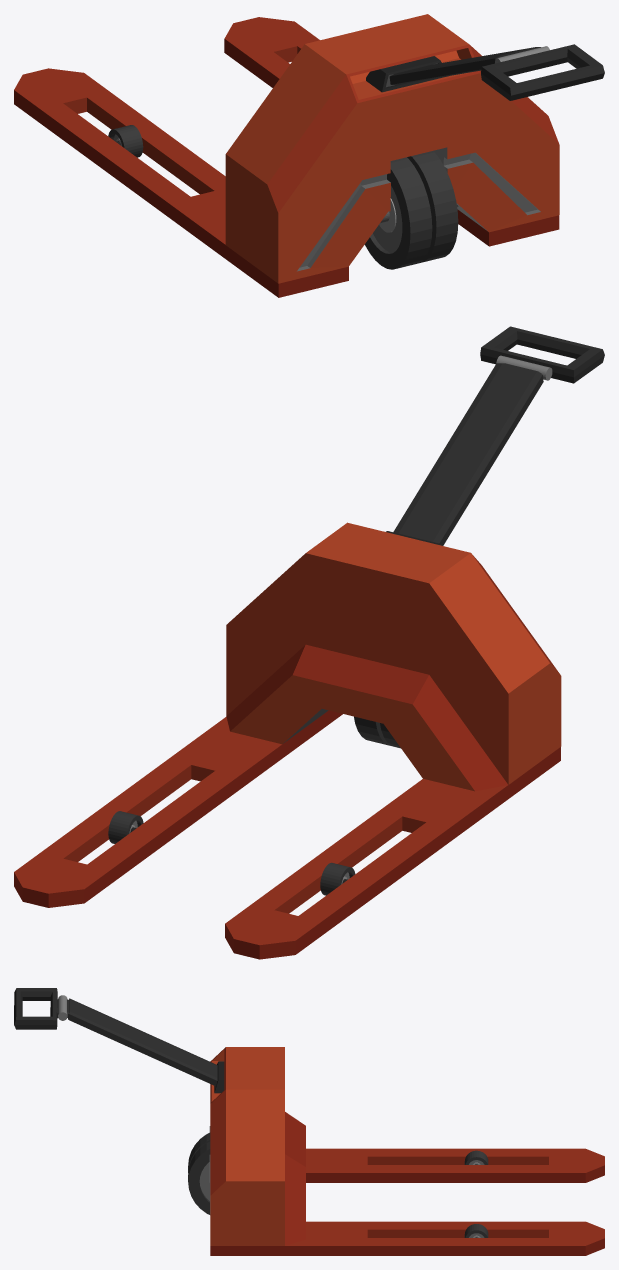
File: Powered Pallet Jack.fbx
3 renders of one model, top to bottom at view 1: azimuth 30°, elevation 25°; view 2: azimuth 150°, elevation 25°; view 3: azimuth 270°, elevation 25°, orthographic. The views are drawn at different scales.
Visible parts, largest first — view 1: Powered Pallet Jack; view 2: Powered Pallet Jack; view 3: Powered Pallet Jack.
Part boxes in pixels (bbox=[...]): Powered Pallet Jack: bbox=[14, 14, 604, 297]; Powered Pallet Jack: bbox=[14, 326, 604, 959]; Powered Pallet Jack: bbox=[14, 988, 604, 1255].
Bounding box in the file's own units: 108 × 107 × 276.
Materials: 1 (1 with a texture image).
